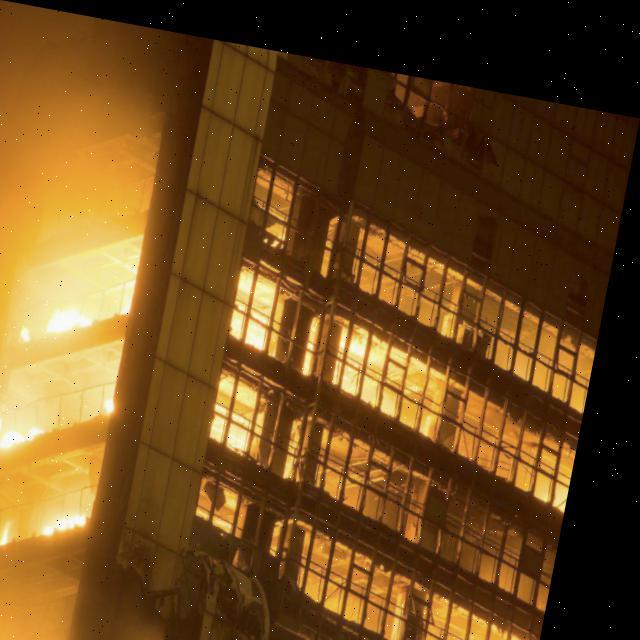Fire: (0, 209, 167, 639)
